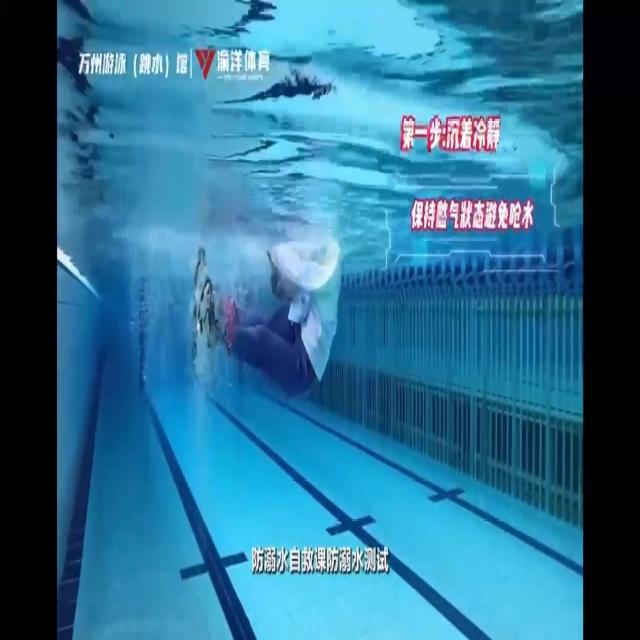Drowning: (196, 239, 344, 398)
